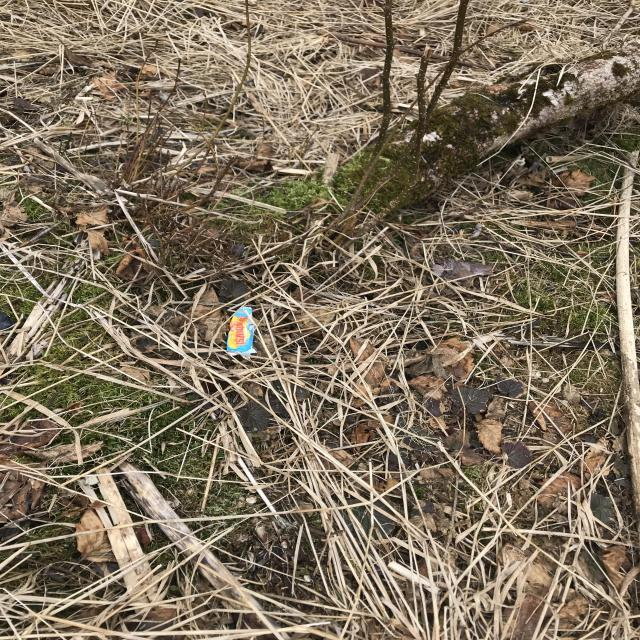Other plastic: (227, 307, 257, 359)
